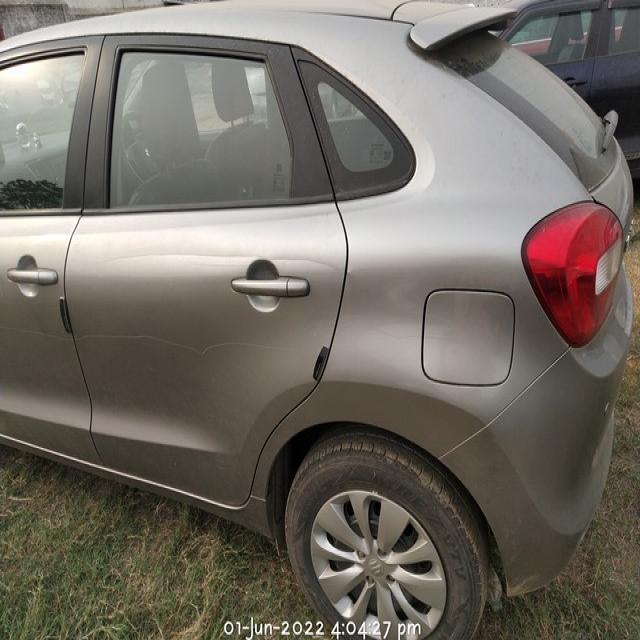damage: (76, 332, 309, 354), (0, 311, 68, 357)
